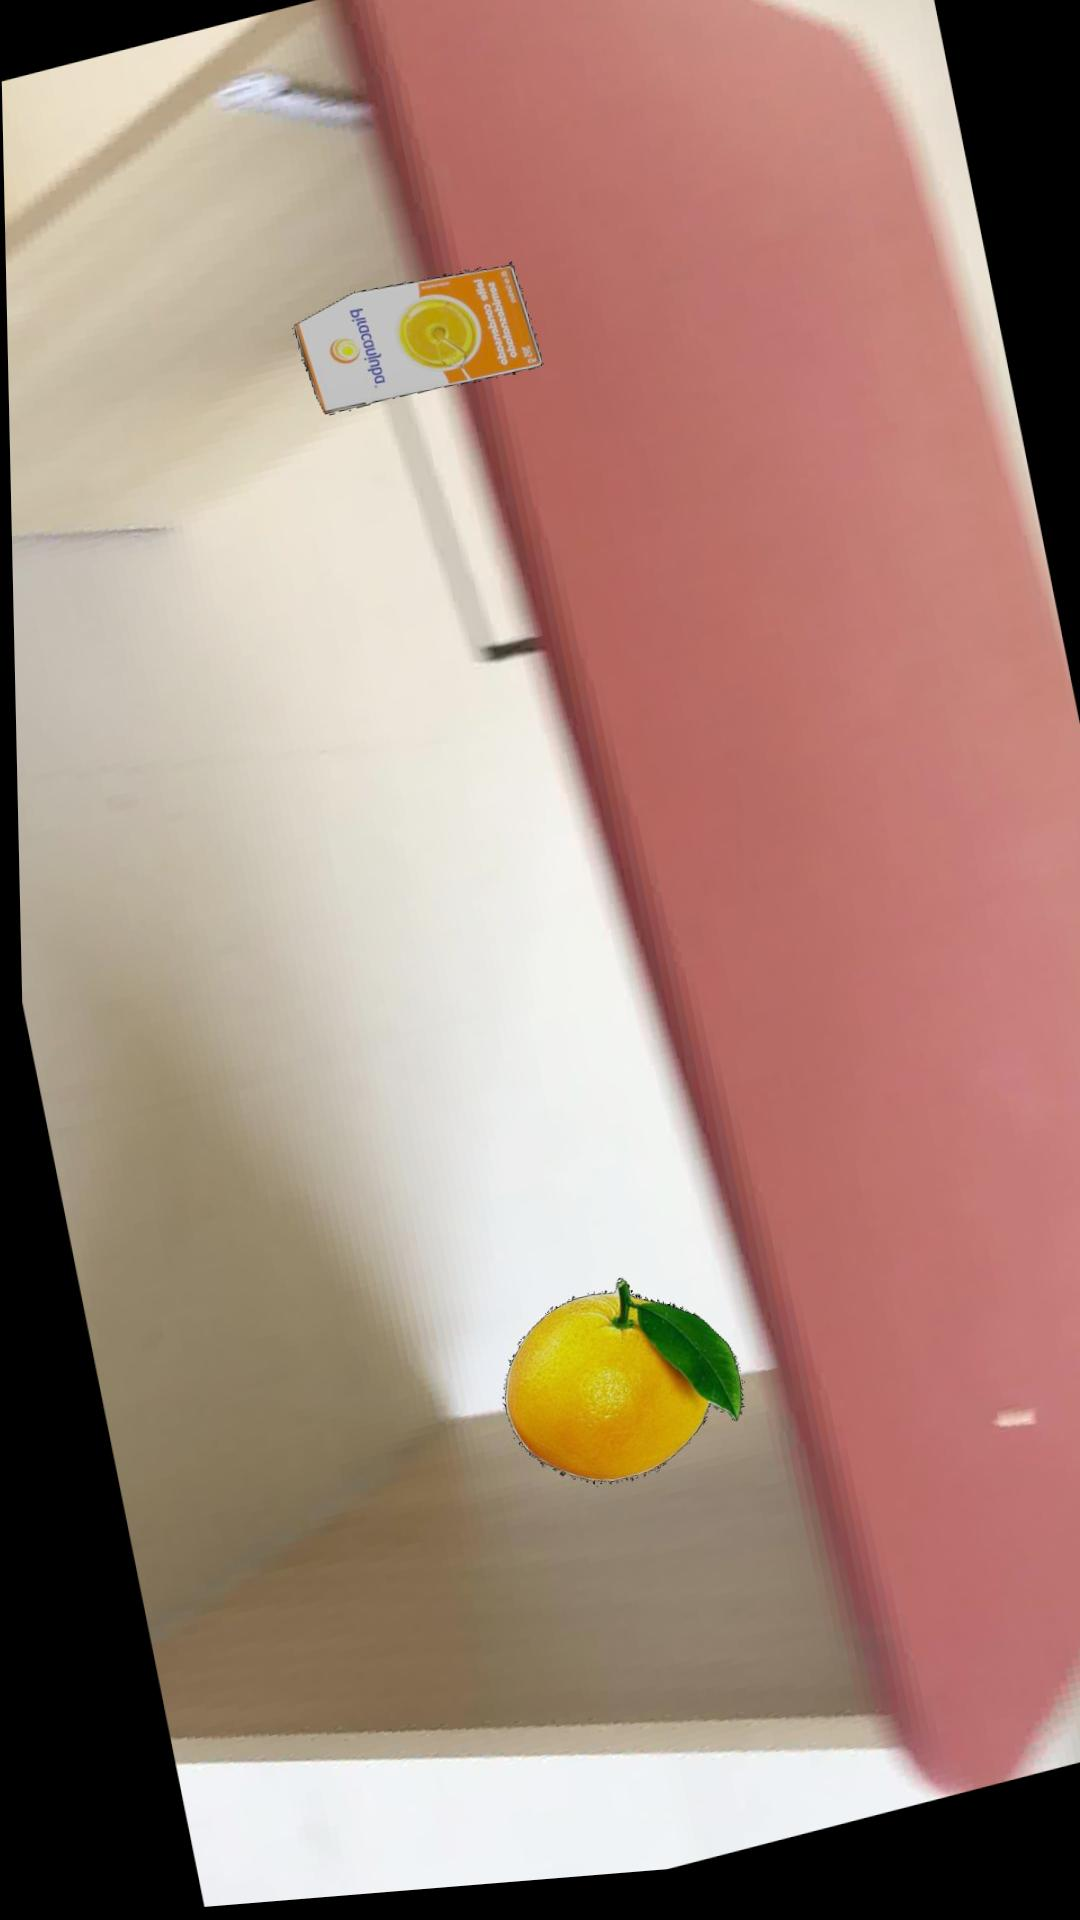orange: (495, 1287, 735, 1493)
